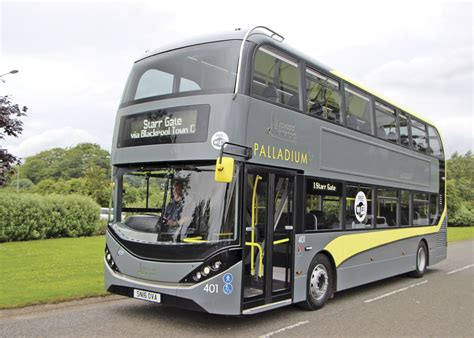bus: (104, 35, 445, 315)
